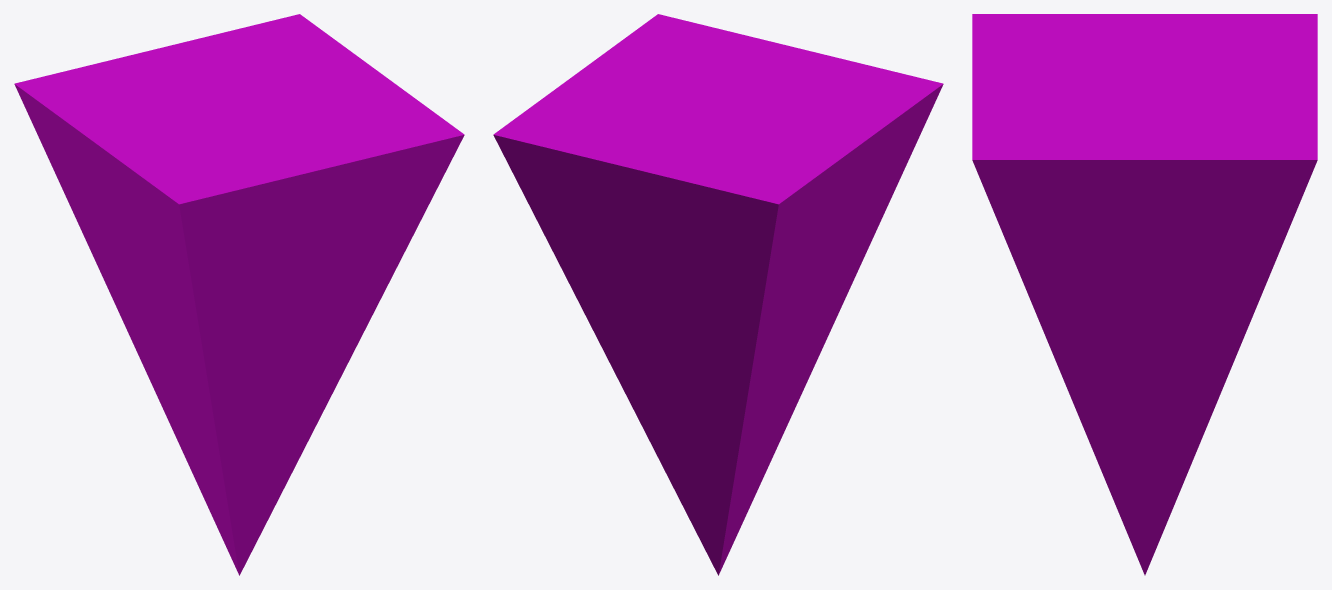
The model's file is HunterIcon.fbx.
3 views of the same model, side by side, from view 1: azimuth 30°, elevation 25°; view 2: azimuth 150°, elevation 25°; view 3: azimuth 270°, elevation 25° (orthographic). The views are drawn at different scales.
Visible parts, largest first — view 1: Cube; view 2: Cube; view 3: Cube.
Boxes of the visible parts, x1=… form: Cube: x1=14, y1=14, x2=464, y2=575; Cube: x1=493, y1=14, x2=943, y2=575; Cube: x1=972, y1=14, x2=1317, y2=575.
Bounding box in the file's own units: 1.28 × 2 × 1.28.
